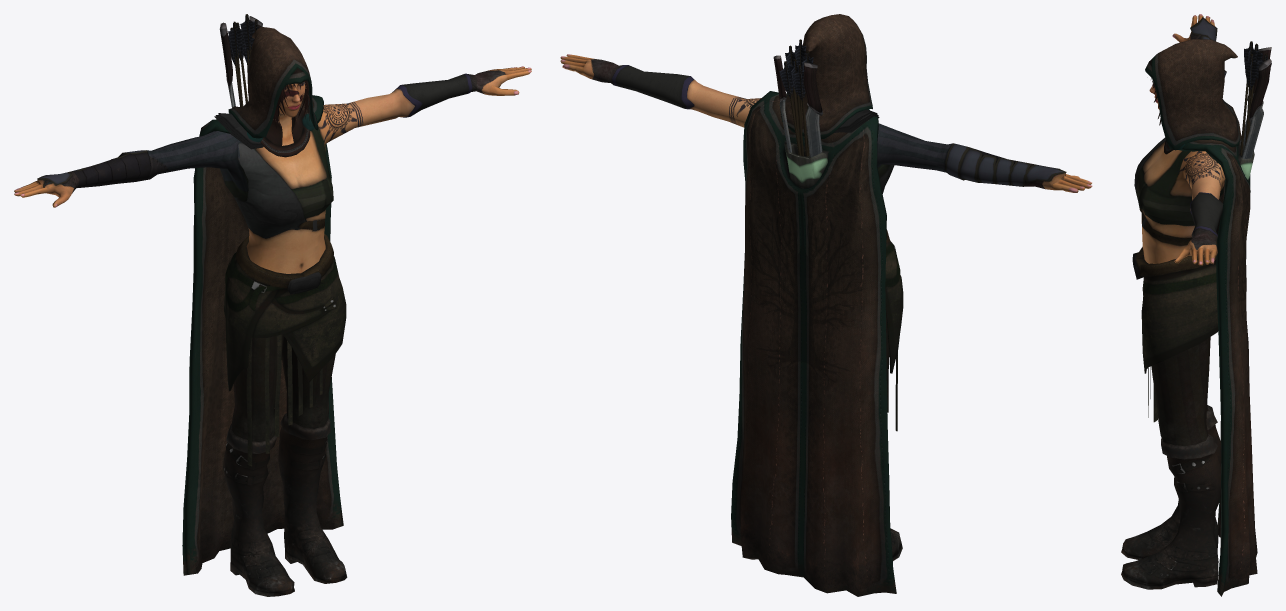
The model's file is player.glb.
The picture shows the model from 3 angles, left to right: view 1: azimuth 30°, elevation 25°; view 2: azimuth 150°, elevation 25°; view 3: azimuth 270°, elevation 25°; orthographic projection. The views are drawn at different scales.
Parts seen in each view (by area): view 1: arissa:Body_Geo, arissa:Cloak_Geo, arissa:Skirt_Geo, arissa:Weapons_Geo; view 2: arissa:Cloak_Geo, arissa:Body_Geo, arissa:Weapons_Geo, arissa:Skirt_Geo; view 3: arissa:Body_Geo, arissa:Cloak_Geo, arissa:Skirt_Geo, arissa:Weapons_Geo.
Boxes of the visible parts, x1,y1,x2,y2 form: arissa:Body_Geo: (14, 66, 531, 596); arissa:Cloak_Geo: (182, 27, 343, 575); arissa:Skirt_Geo: (224, 234, 346, 466); arissa:Weapons_Geo: (219, 14, 262, 107); arissa:Cloak_Geo: (731, 14, 896, 596); arissa:Body_Geo: (560, 54, 1092, 560); arissa:Weapons_Geo: (773, 39, 823, 157); arissa:Skirt_Geo: (885, 229, 903, 431); arissa:Body_Geo: (1121, 14, 1226, 589); arissa:Cloak_Geo: (1145, 39, 1257, 596); arissa:Skirt_Geo: (1132, 241, 1218, 422); arissa:Weapons_Geo: (1240, 41, 1271, 158).
Bounding box in the file's own units: 1.81 × 1.8 × 0.4632.
Materials: 1 (1 with a texture image).
